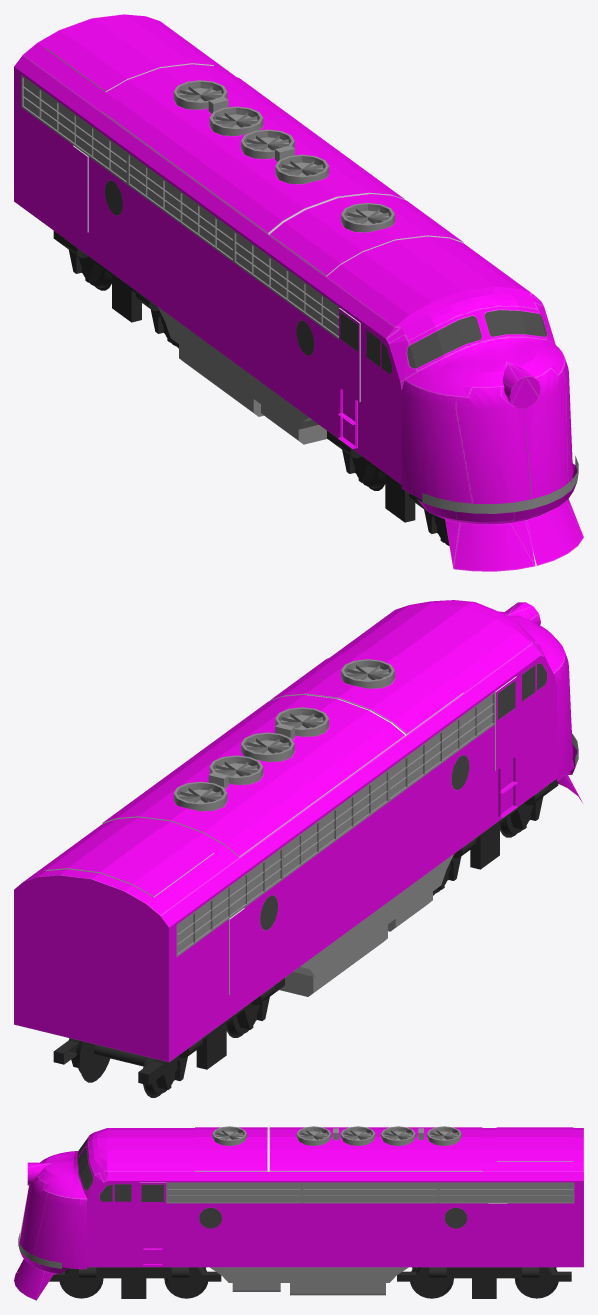
3 views of the same model, one above another, from view 1: azimuth 30°, elevation 25°; view 2: azimuth 150°, elevation 25°; view 3: azimuth 270°, elevation 25° (orthographic). The views are drawn at different scales.
Visible parts, largest first — view 1: body_half (×17), side-grid (×3), bogie-mechanism-half (×4); view 2: body_half (×12), side-grid (×3), bogie-mechanism-half (×4), fan (×3), wheel_half; view 3: body_half (×20), side-grid (×6), bogie-mechanism-half (×4), fan (×5), wheel_half (×2).
Part boxes in pixels (x1=…): body_half (×17): x1=14, y1=14, x2=583, y2=571; side-grid (×3): x1=22, y1=77, x2=338, y2=337; bogie-mechanism-half (×4): x1=53, y1=231, x2=448, y2=542; body_half (×12): x1=14, y1=600, x2=572, y2=1062; side-grid (×3): x1=177, y1=694, x2=494, y2=954; bogie-mechanism-half (×4): x1=138, y1=779, x2=558, y2=1089; fan (×3): x1=173, y1=659, x2=394, y2=811; wheel_half: x1=76, y1=1041, x2=108, y2=1079; body_half (×20): x1=14, y1=1127, x2=583, y2=1300; side-grid (×6): x1=166, y1=1182, x2=574, y2=1203; bogie-mechanism-half (×4): x1=49, y1=1267, x2=571, y2=1298; fan (×5): x1=212, y1=1126, x2=461, y2=1145; wheel_half (×2): x1=166, y1=1267, x2=556, y2=1296.
Bounding box in the file's own units: 126 × 586 × 179.
Materials: 5 (1 with a texture image).
